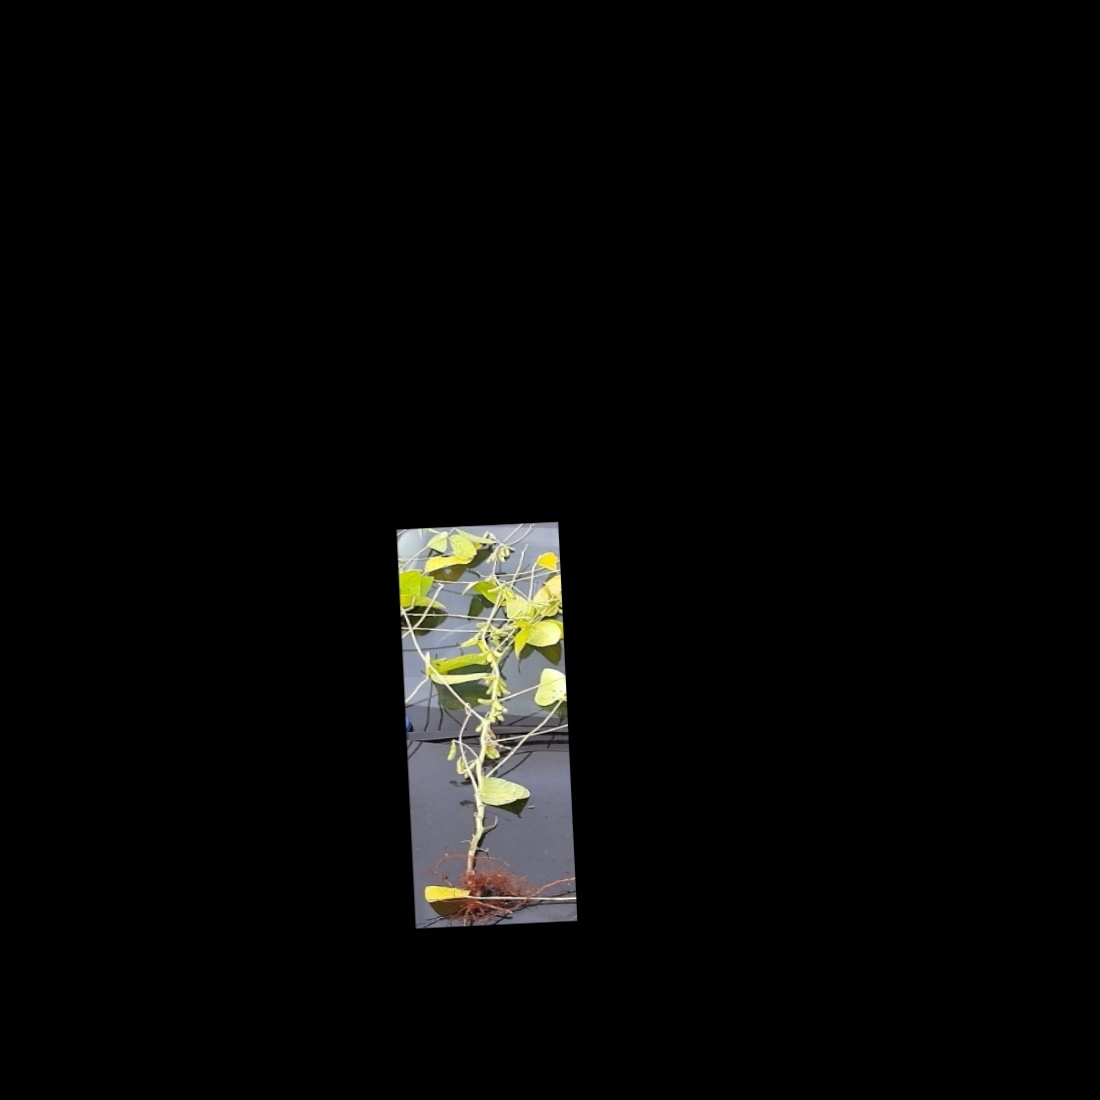pod: (444, 739, 459, 763), (475, 695, 497, 708), (480, 673, 502, 683), (498, 680, 510, 697)
soy: (404, 529, 572, 915)
